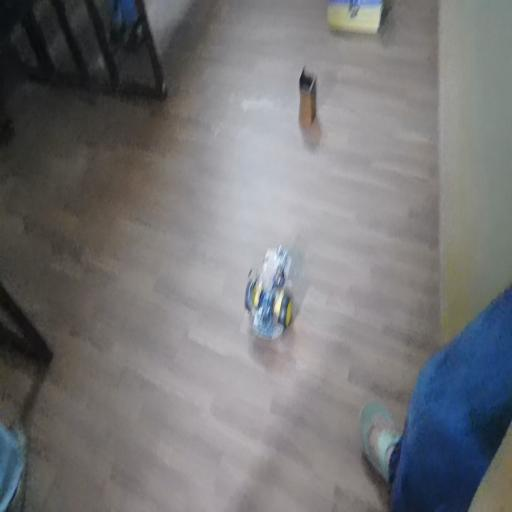car: (242, 248, 302, 345)
